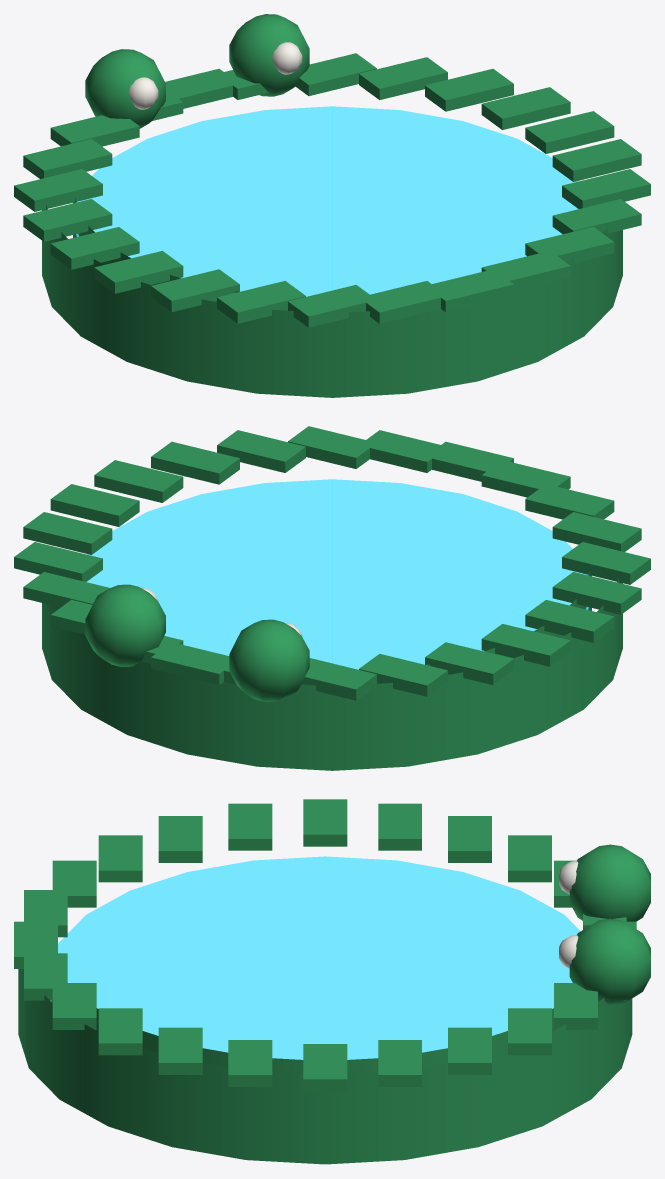
The model's file is pool_round.glb.
3 renders of one model, top to bottom at view 1: azimuth 30°, elevation 25°; view 2: azimuth 150°, elevation 25°; view 3: azimuth 270°, elevation 25°, orthographic. The views are drawn at different scales.
Parts seen in each view (by area): view 1: pool_round; view 2: pool_round; view 3: pool_round.
Boxes of the visible parts, bbox=[...] form: pool_round: bbox=[14, 14, 650, 397]; pool_round: bbox=[14, 426, 650, 770]; pool_round: bbox=[14, 799, 650, 1164].
Size of the model in its own units: 3.02 by 0.75 by 2.91.
